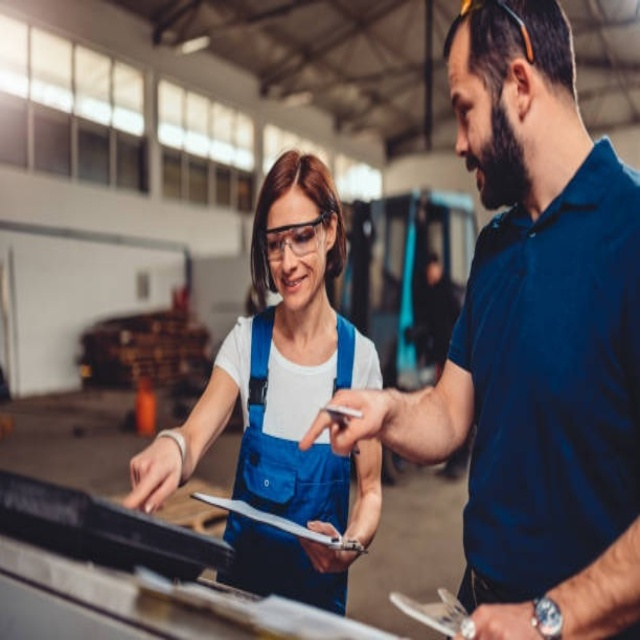Gafas: (262, 210, 334, 260)
Sin_gafas: (447, 82, 494, 129)
Sin_guantes: (298, 386, 391, 458), (121, 431, 185, 513), (463, 595, 553, 640), (297, 516, 364, 574)
Sin_mascara: (461, 152, 494, 202), (278, 268, 312, 301)
